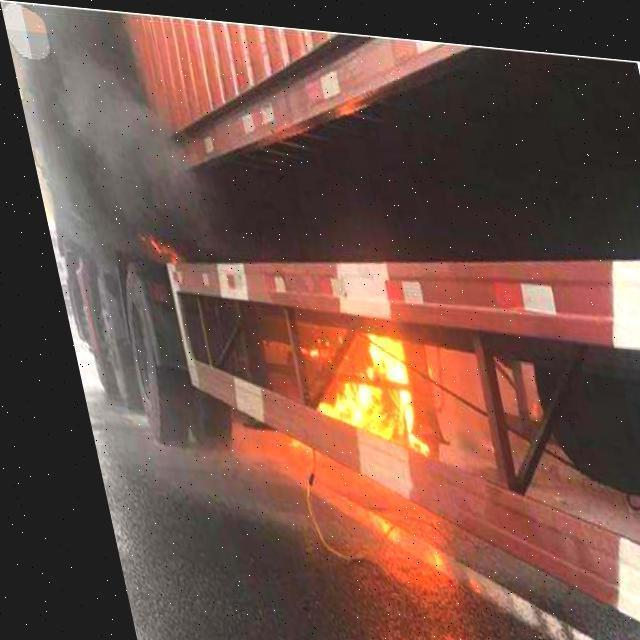Fire: (276, 311, 428, 488)
